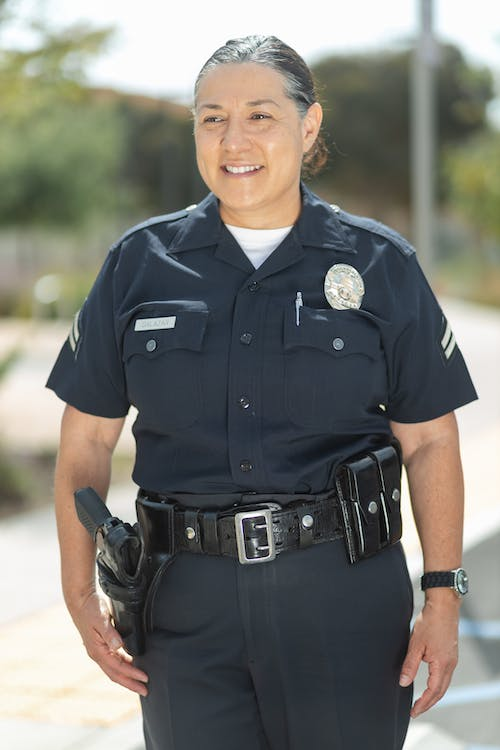gun: (73, 482, 143, 660)
